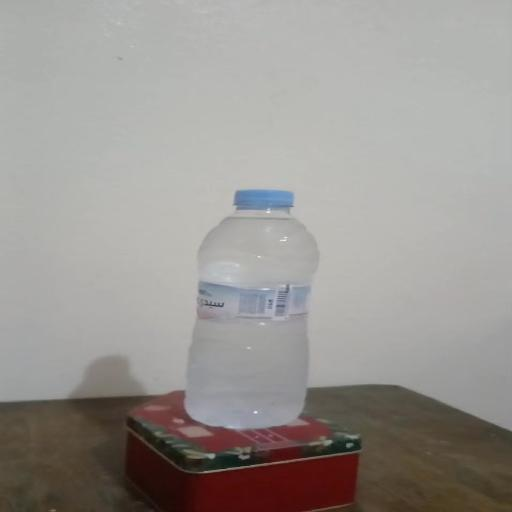bouteille conformite: (180, 189, 318, 431)
